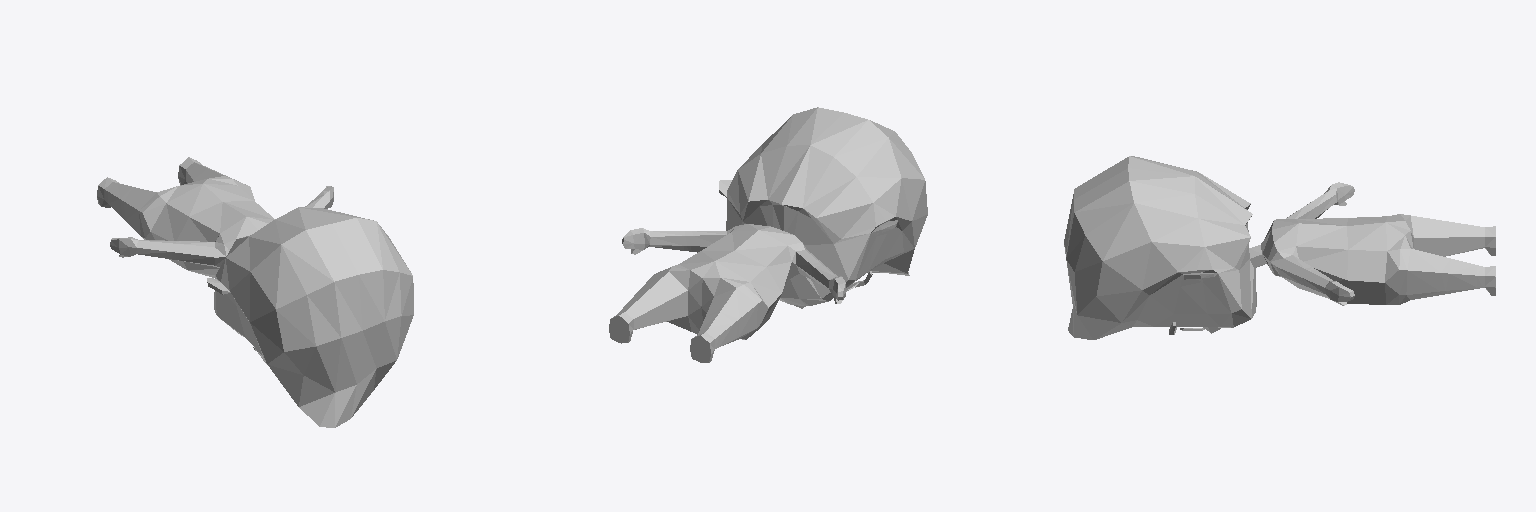
File: boymodel.obj
The picture shows the model from 3 angles: view 1: azimuth 30°, elevation 25°; view 2: azimuth 150°, elevation 25°; view 3: azimuth 270°, elevation 25°; orthographic projection.
Visible parts, largest first — view 1: BOY; view 2: BOY; view 3: BOY.
Part boxes in pixels (left/top/right/bottom): BOY: left=97, top=157, right=413, bottom=427; BOY: left=609, top=107, right=927, bottom=362; BOY: left=1064, top=156, right=1495, bottom=339.
Size of the model in its own units: 12.49 by 9.47 by 21.09.